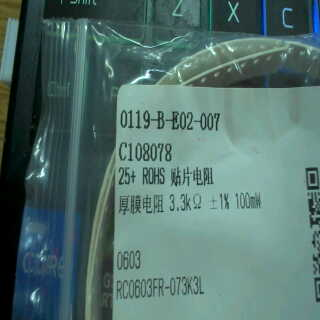3.3kO: (164, 189, 206, 214)
